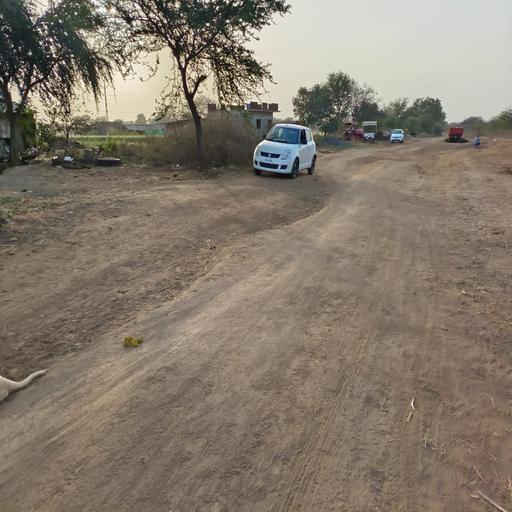vehicle_track: (0, 148, 438, 512)
